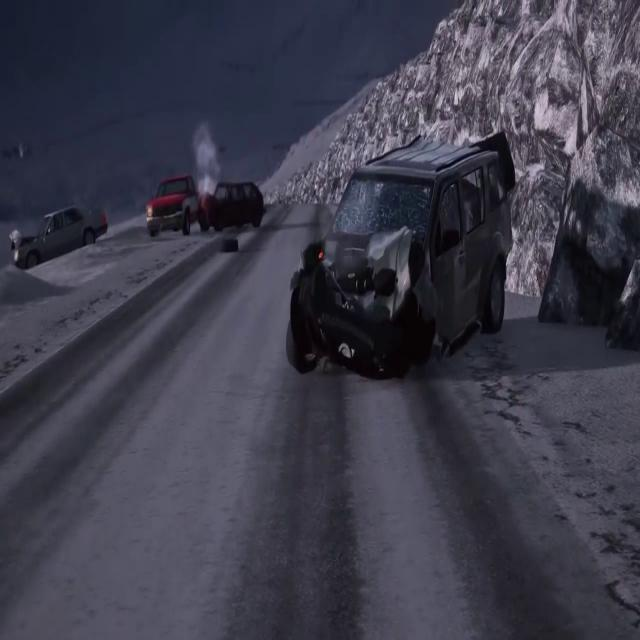accident: (140, 168, 266, 245)
